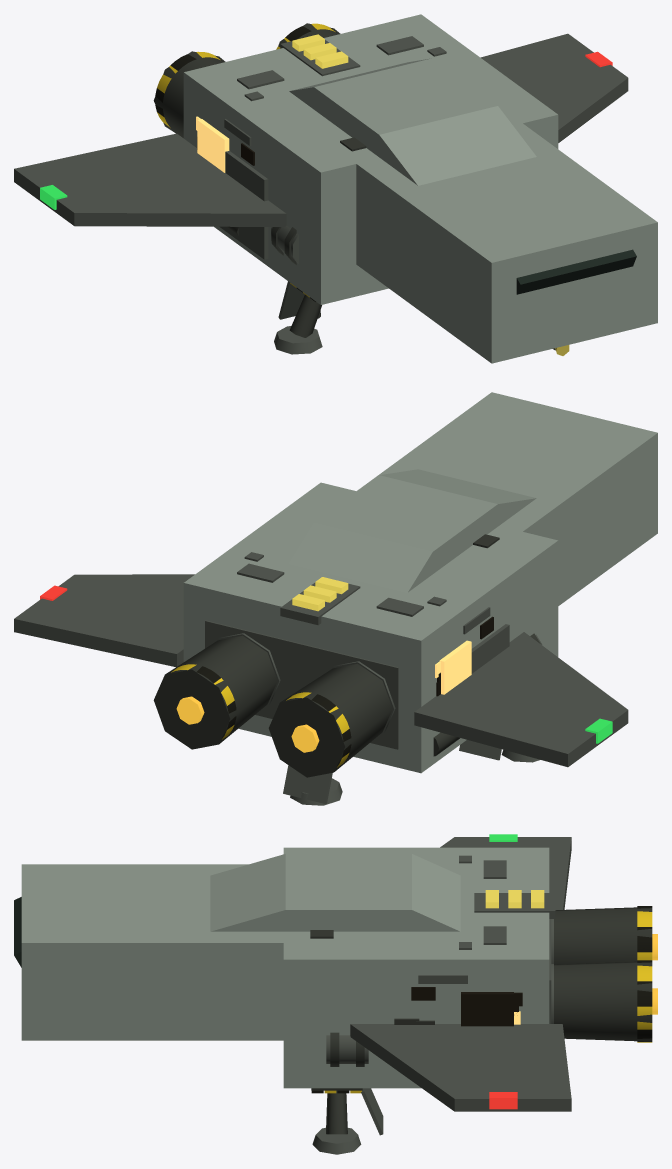
The model's file is shuttle-s.glb.
The picture shows the model from 3 angles, top to bottom: view 1: azimuth 30°, elevation 25°; view 2: azimuth 150°, elevation 25°; view 3: azimuth 270°, elevation 25°; orthographic projection. The views are drawn at different scales.
Visible parts, largest first — view 1: hullNose, hullMain, canopyFairing, wingLeft, wingRight, cockpitGlass, boardingDoor, engineHousing, cabinWindow0L, gearFoot, gearStrut, iffPlinthDorsal (+3 smaller); view 2: hullMain, hullNose, canopyFairing, engineHousing (×2), wingLeft, wingRight, engineBayExtension, engineGlow (×2), gearBayDoor, cabinWindow0L, boardingDoor, iffPlinthDorsal; view 3: hullNose, hullMain, canopyFairing, wingRight, engineHousing (×2), wingLeft, cabinWindow0R, iffPlinthDorsal, gearFoot, gearStrut, shuttleShipPropellantTankR, navLightPort (+2 smaller).
Part boxes in pixels (x1,y1,x2,y2): hullNose: [346, 123, 657, 363]; hullMain: [183, 14, 558, 304]; canopyFairing: [289, 58, 536, 185]; wingLeft: [14, 133, 286, 226]; wingRight: [480, 33, 628, 142]; cockpitGlass: [516, 249, 636, 294]; boardingDoor: [219, 151, 268, 259]; engineHousing: [153, 51, 225, 137]; cabinWindow0L: [197, 119, 229, 172]; gearFoot: [274, 326, 322, 354]; gearStrut: [289, 294, 321, 337]; iffPlinthDorsal: [280, 40, 360, 76]; hullMain: [183, 482, 558, 773]; hullNose: [357, 392, 657, 605]; canopyFairing: [289, 469, 536, 592]; engineHousing (×2): [153, 635, 392, 777]; wingLeft: [414, 632, 628, 767]; wingRight: [14, 574, 194, 666]; engineBayExtension: [205, 620, 398, 749]; engineGlow (×2): [176, 696, 319, 752]; gearBayDoor: [283, 765, 332, 803]; cabinWindow0L: [439, 640, 471, 694]; boardingDoor: [471, 624, 509, 673]; iffPlinthDorsal: [280, 582, 360, 625]; hullNose: [21, 864, 304, 1040]; hullMain: [283, 847, 549, 1088]; canopyFairing: [210, 853, 460, 931]; wingRight: [350, 1024, 571, 1111]; engineHousing (×2): [554, 907, 652, 1041]; wingLeft: [440, 837, 571, 910]; cabinWindow0R: [461, 992, 513, 1026]; iffPlinthDorsal: [474, 893, 555, 918]; gearFoot: [312, 1127, 361, 1154]; gearStrut: [326, 1090, 347, 1134]; shuttleShipPropellantTankR: [326, 1035, 368, 1063]; navLightPort: [489, 1092, 517, 1109].
Size of the model in its own units: 3.52 by 1.3 by 3.64.
